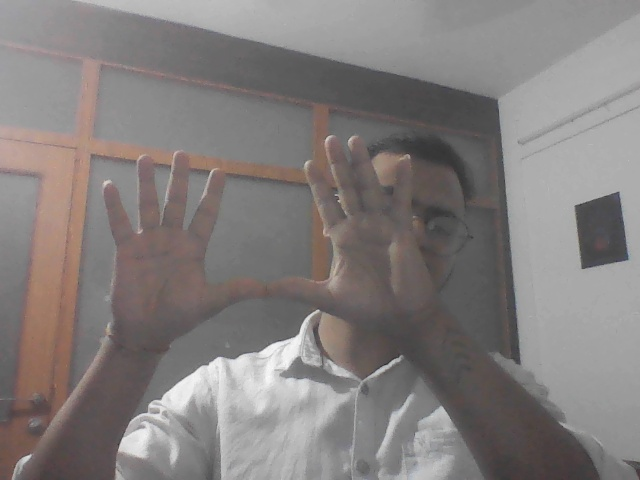Cheers: (87, 131, 446, 349)
